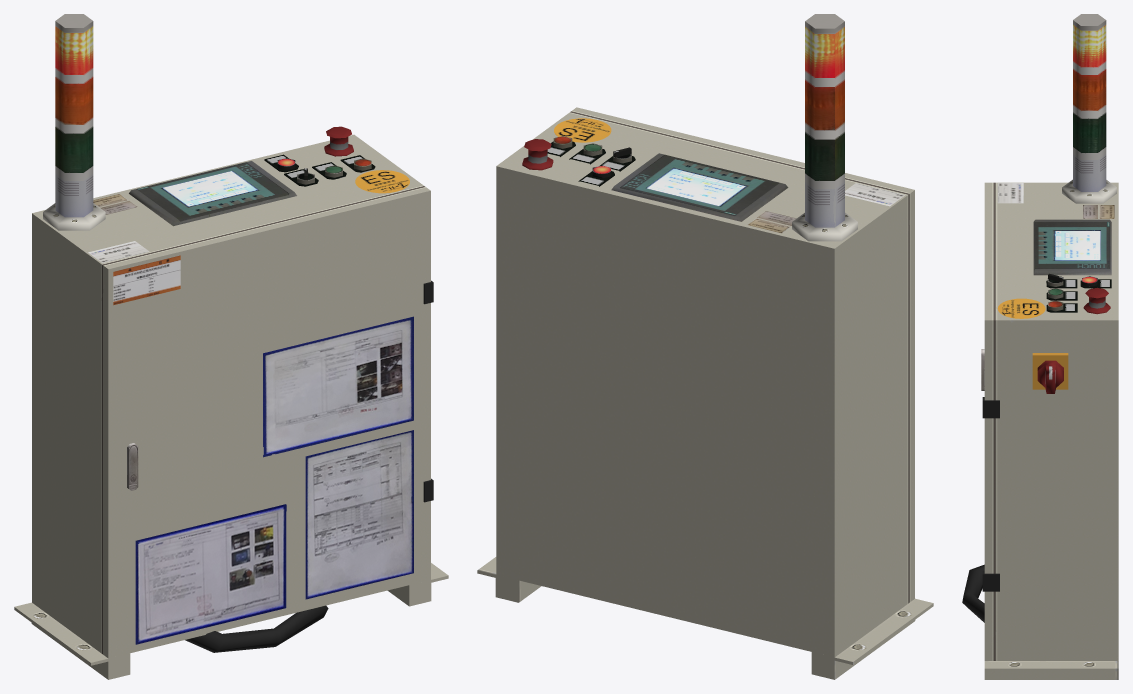
The model's file is peidian07.FBX.
The picture shows the model from 3 angles, left to right: view 1: azimuth 30°, elevation 25°; view 2: azimuth 150°, elevation 25°; view 3: azimuth 270°, elevation 25°; orthographic projection. The views are drawn at different scales.
Visible parts, largest first — view 1: YF_Model_peidian07; view 2: YF_Model_peidian07; view 3: YF_Model_peidian07.
Boxes of the visible parts, bbox=[...] form: YF_Model_peidian07: bbox=[14, 14, 448, 679]; YF_Model_peidian07: bbox=[477, 14, 933, 679]; YF_Model_peidian07: bbox=[962, 14, 1118, 679].
Bounding box in the file's own units: 96.77 × 153 × 40.82.
1 material, 1 textured.
